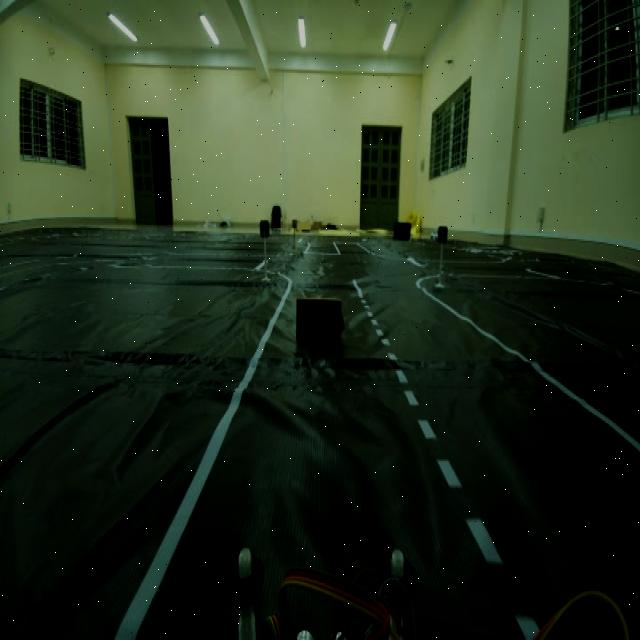roadblock: (295, 289, 349, 356)
